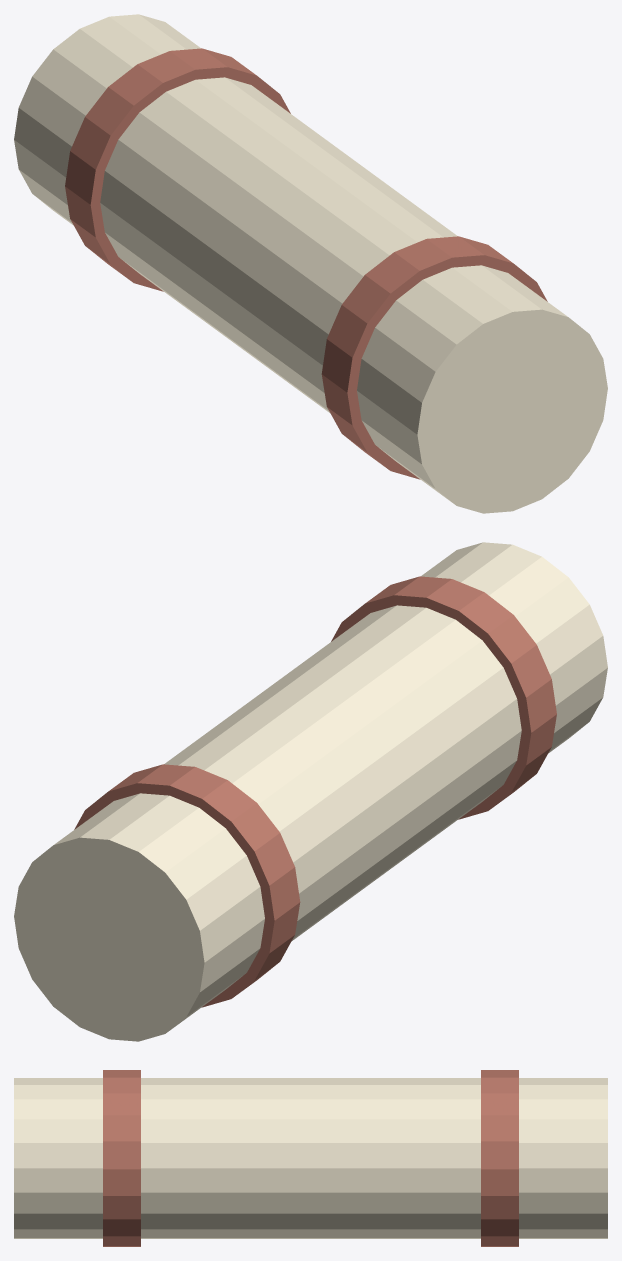
Rendered from map.glb.
3 renders of one model, top to bottom at view 1: azimuth 30°, elevation 25°; view 2: azimuth 150°, elevation 25°; view 3: azimuth 270°, elevation 25°, orthographic. The views are drawn at different scales.
Parts seen in each view (by area): view 1: map; view 2: map; view 3: map.
Boxes of the visible parts, x1=… form: map: x1=14, y1=14, x2=607, y2=513; map: x1=14, y1=542, x2=607, y2=1041; map: x1=14, y1=1070, x2=607, y2=1246.
Bounding box in the file's own units: 0.066 × 0.066 × 0.22.
